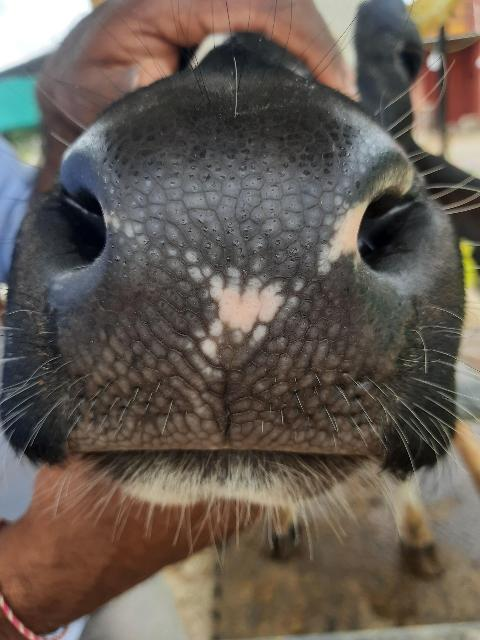Muzzle: (74, 128, 394, 462)
